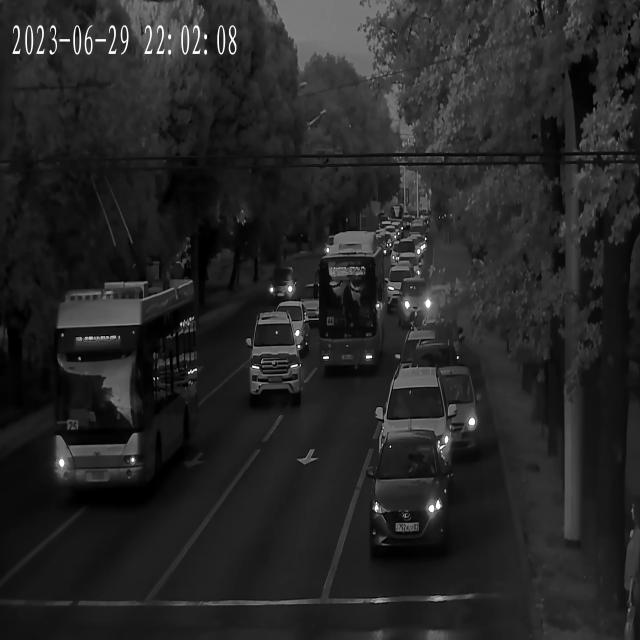Bus: (52, 279, 198, 516), (318, 228, 386, 379)
Car: (372, 432, 450, 563), (380, 374, 450, 488), (248, 303, 299, 400), (418, 370, 478, 452), (411, 342, 460, 411), (413, 307, 464, 365), (395, 277, 434, 327), (276, 301, 312, 353), (384, 268, 412, 304), (268, 271, 294, 308), (299, 282, 321, 325), (398, 239, 420, 278), (375, 230, 394, 258)
